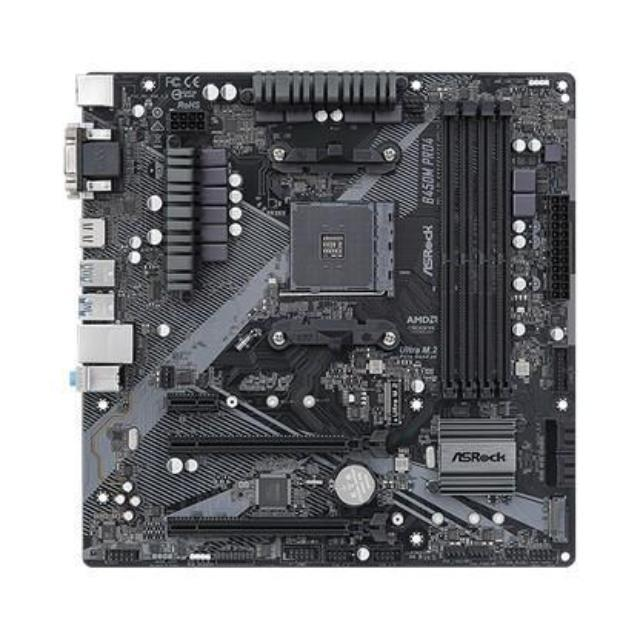Mainboard: (78, 70, 574, 564)
